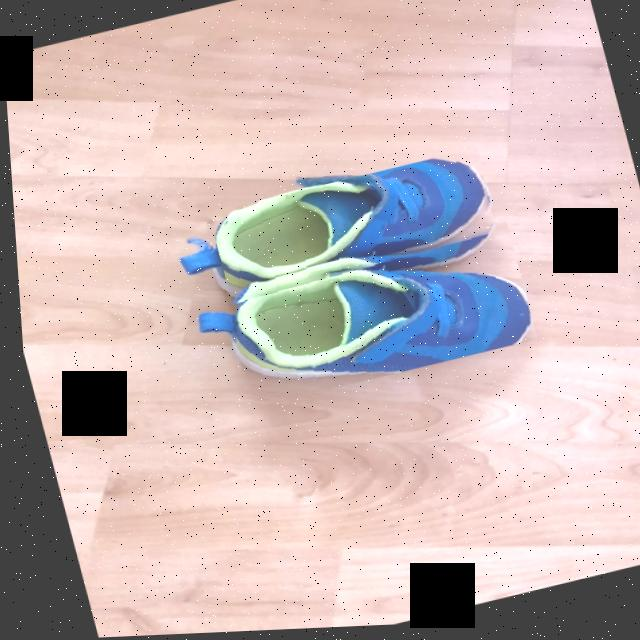shoe: (198, 248, 528, 380), (214, 166, 486, 287)
